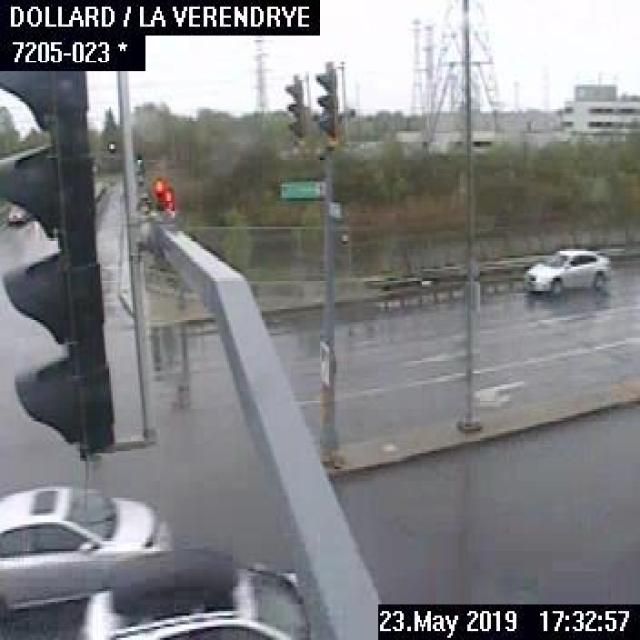vehicle: (0, 481, 175, 628), (74, 545, 311, 638), (522, 244, 611, 296), (4, 202, 31, 225)
